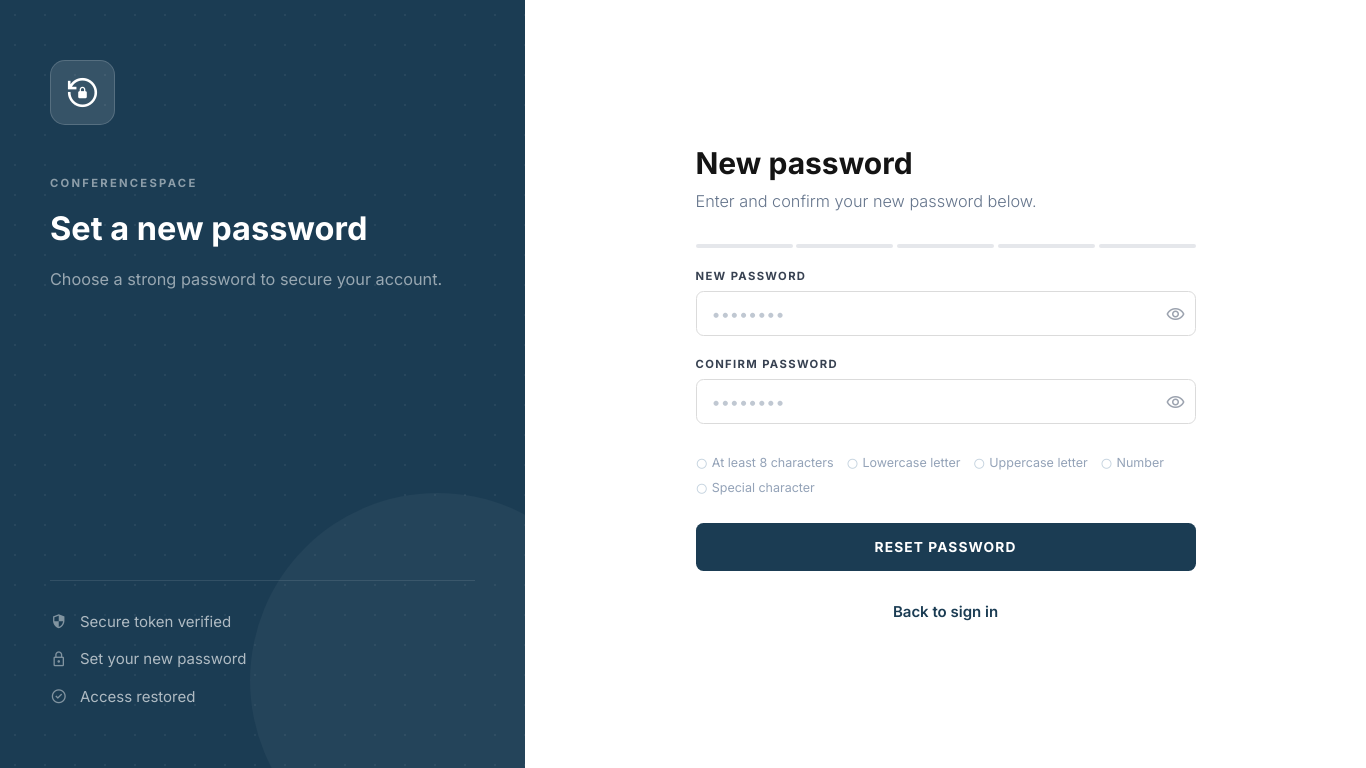
ResetPasswordPage › shows error when password does not meet requirements
Expected: the heading "New password" is shown, [696, 145, 913, 181]
Type "short" into the password field labelled "New password" at {"x": 946, "y": 314}, box [696, 291, 1196, 336]
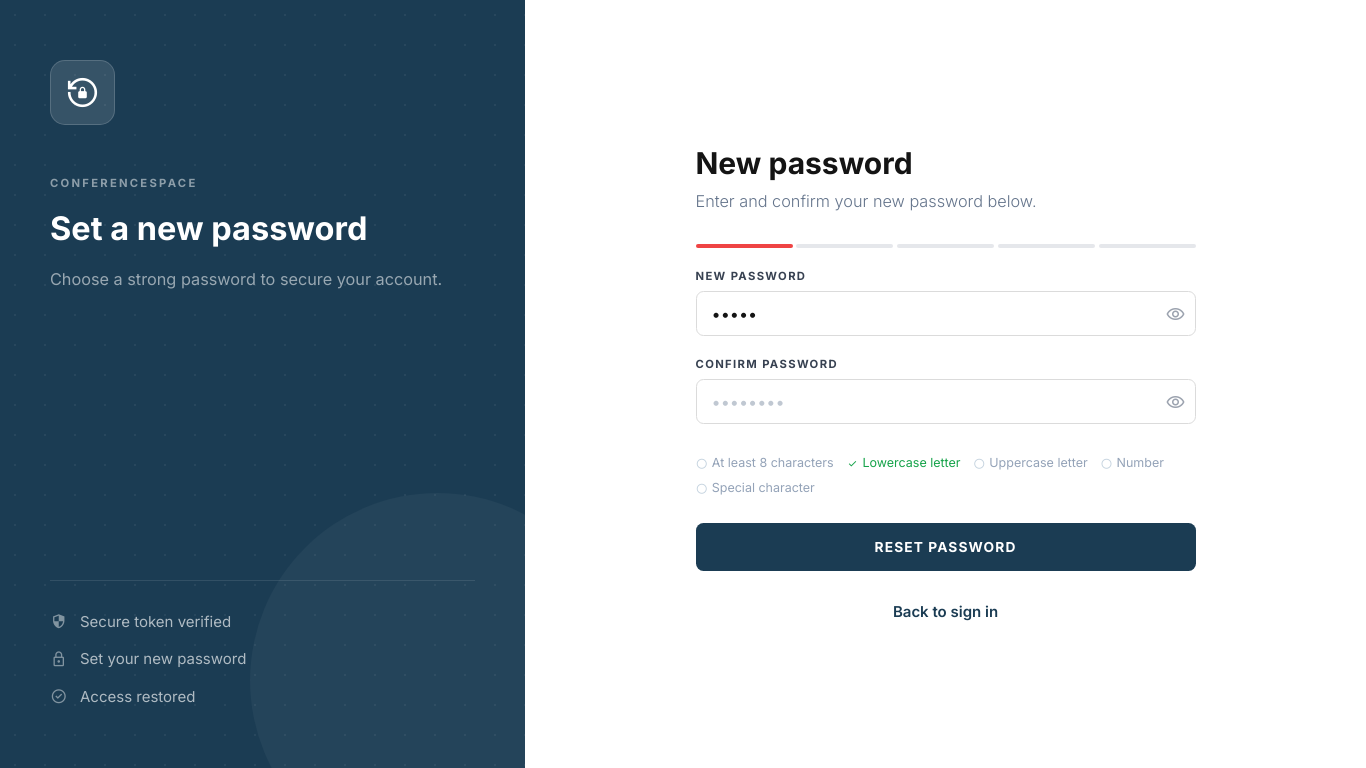
Type "short" into the password field labelled "Confirm password" at {"x": 946, "y": 402}, box [696, 379, 1196, 424]
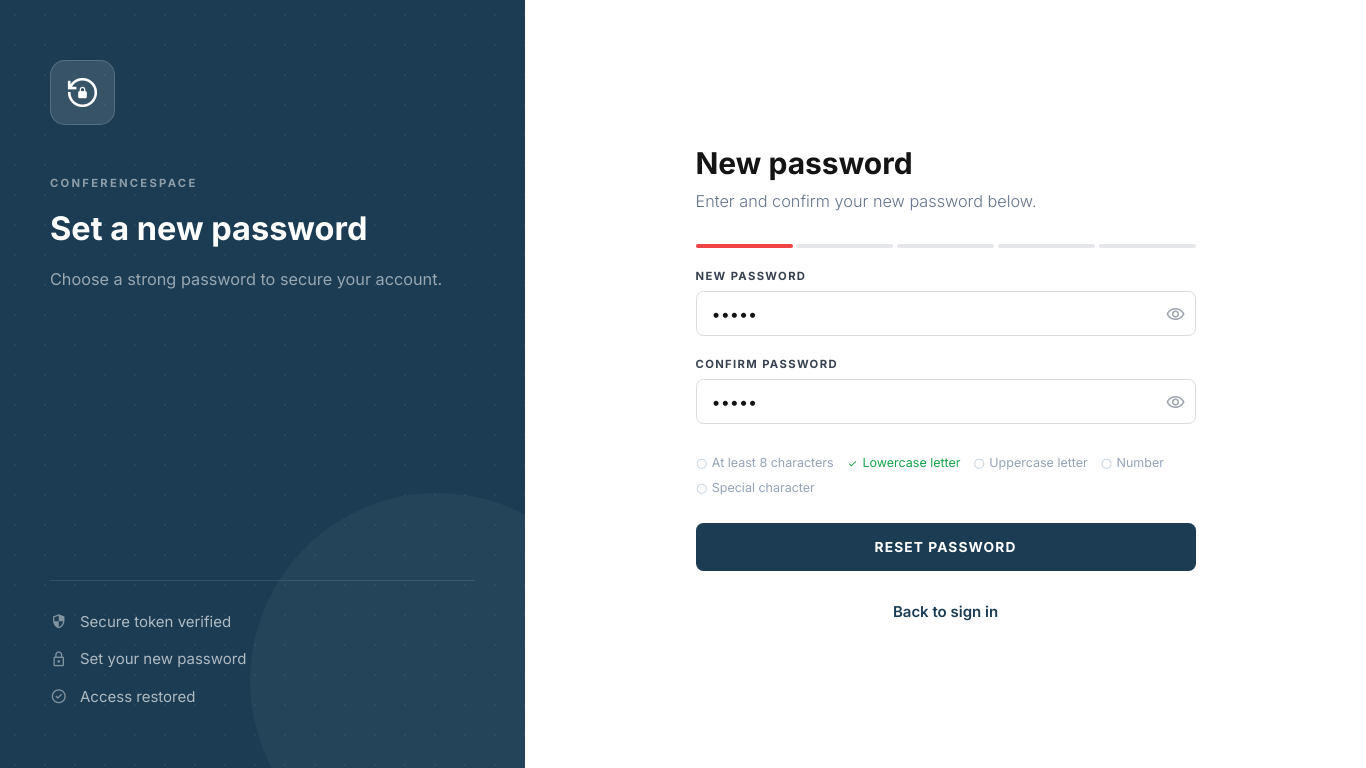
Click the button "Reset password" at {"x": 946, "y": 547}, box [696, 523, 1196, 571]
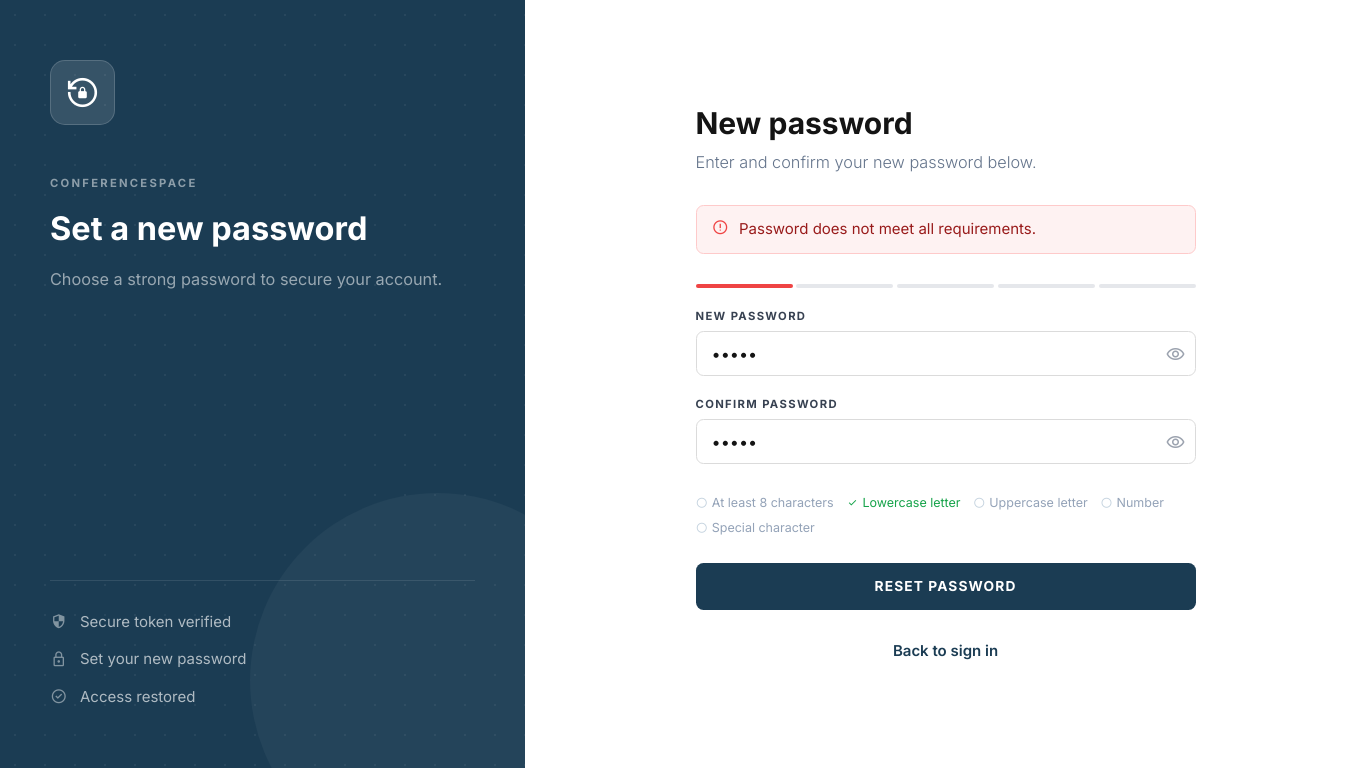
Expected: the text "Password does not meet all requirements." is shown, [739, 218, 1036, 241]
